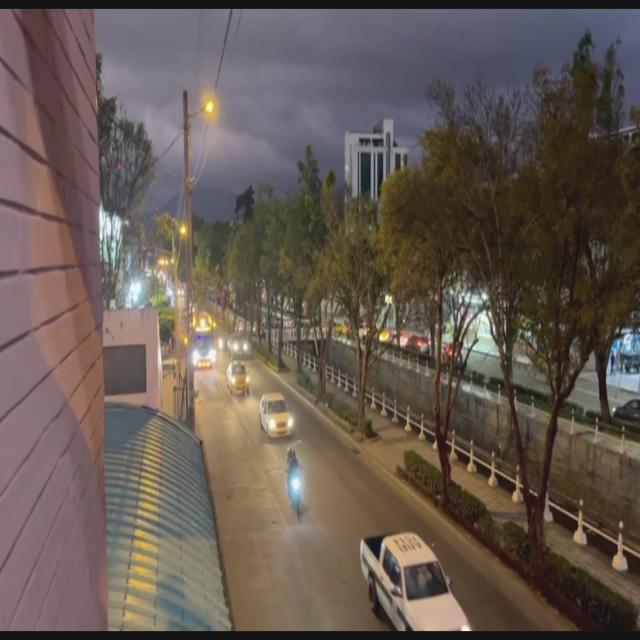CMT: (358, 526, 468, 640)
MOTORCYCLE: (286, 457, 302, 518)
SED: (262, 396, 293, 438), (229, 363, 249, 395)
